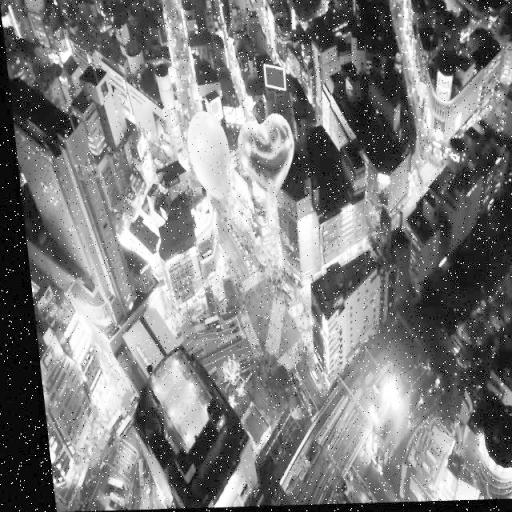balloon: (234, 116, 294, 202), (182, 113, 230, 204)
